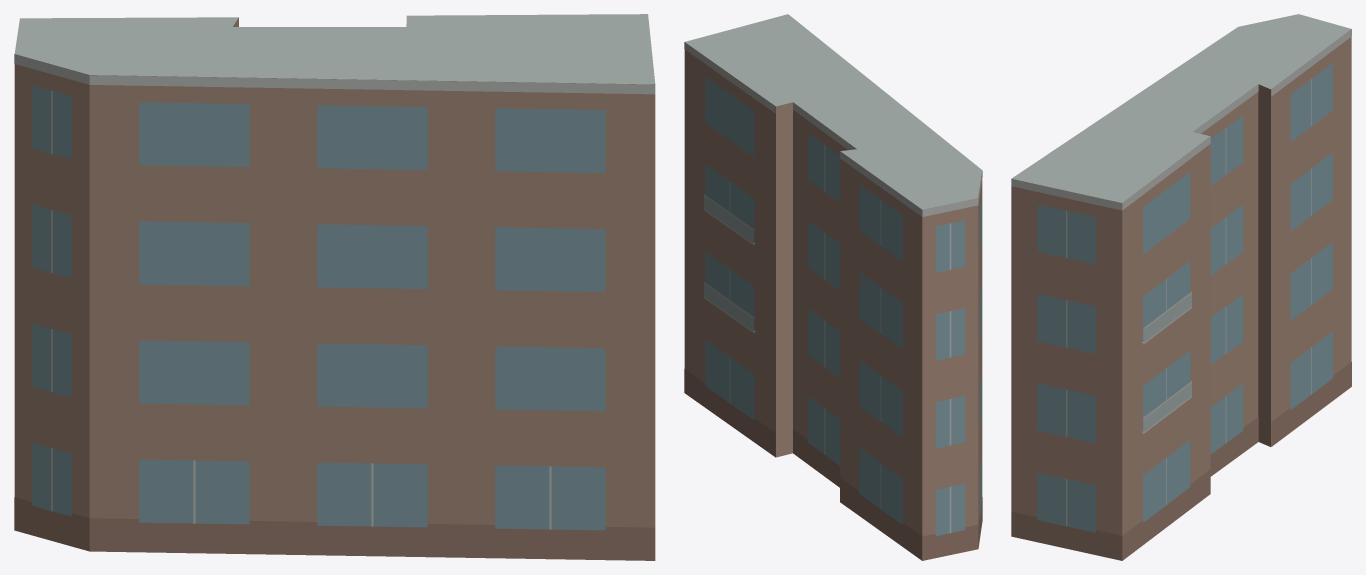
Rendered from survey-upis-32492927.glb.
The picture shows the model from 3 angles, left to right: view 1: azimuth 30°, elevation 25°; view 2: azimuth 150°, elevation 25°; view 3: azimuth 270°, elevation 25°; orthographic projection. The views are drawn at different scales.
Parts seen in each view (by area): view 1: survey-upis-32492927.tmp; view 2: survey-upis-32492927.tmp; view 3: survey-upis-32492927.tmp.
Part boxes in pixels (x1,y1,x2,y2): survey-upis-32492927.tmp: [14, 14, 655, 560]; survey-upis-32492927.tmp: [684, 14, 982, 560]; survey-upis-32492927.tmp: [1011, 14, 1351, 560].
Bounding box in the file's own units: 13.27 × 11.7 × 10.1.
